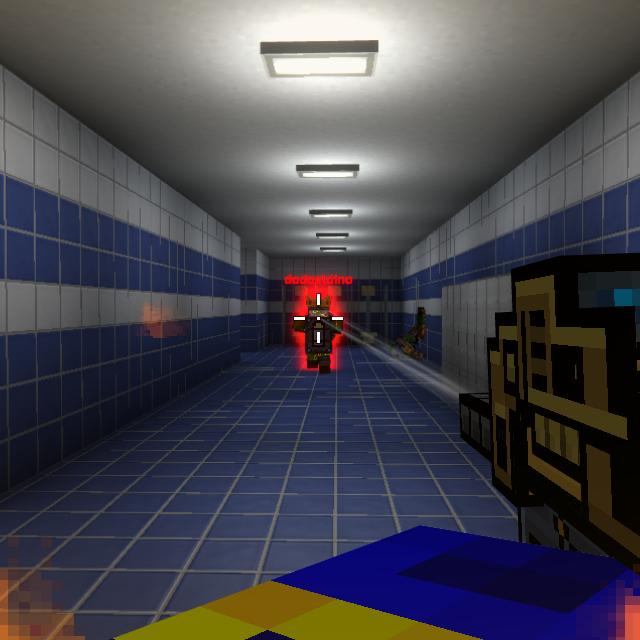Enemy: (291, 296, 342, 375)
